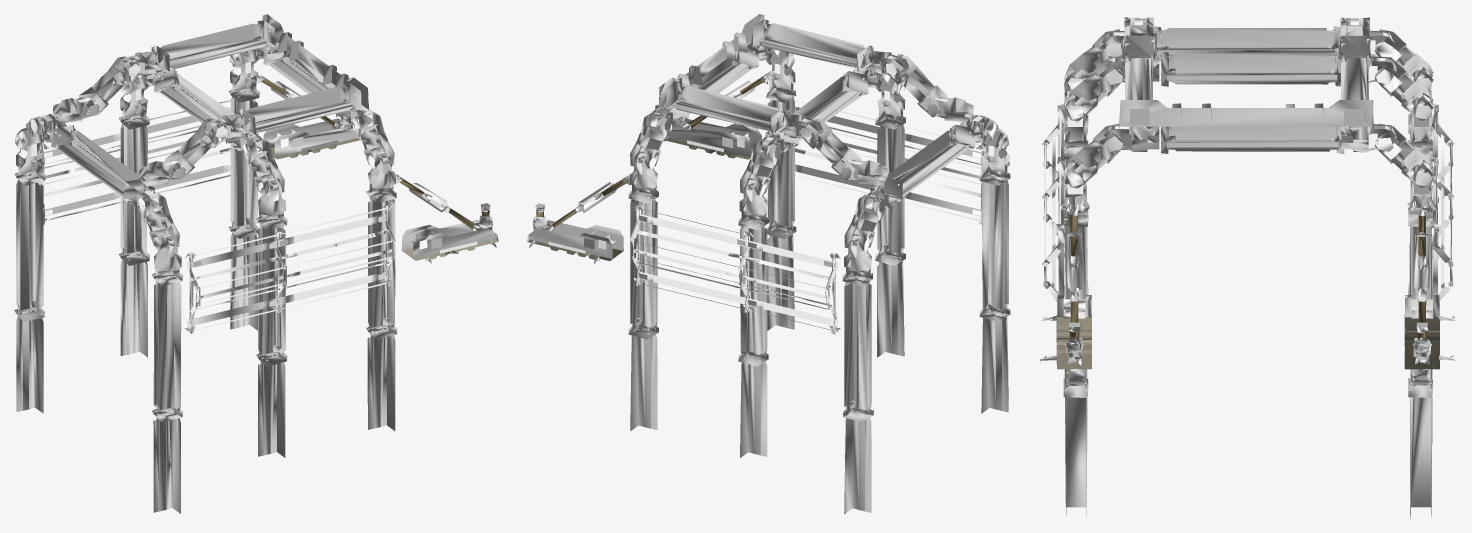
File: ext_landingpad_structure_center_stair_16x08x10_b.glb
3 views of the same model, side by side, from view 1: azimuth 30°, elevation 25°; view 2: azimuth 150°, elevation 25°; view 3: azimuth 270°, elevation 25° (orthographic). The views are drawn at different scales.
Size of the model in its own units: 6.44 by 6.58 by 5.52.
